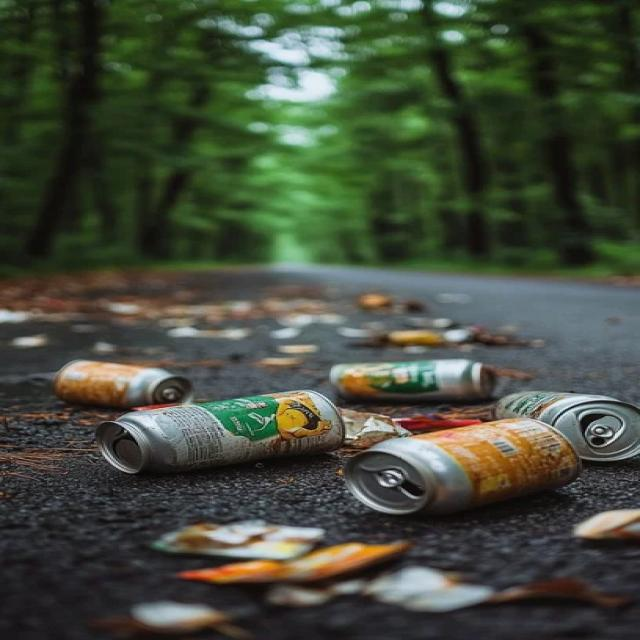aluminum_can: (359, 425, 608, 524), (92, 389, 350, 468), (475, 371, 640, 468), (319, 356, 523, 406), (54, 353, 206, 410)
